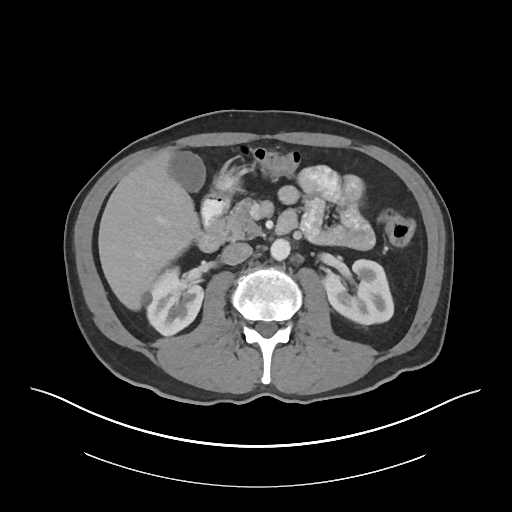Lesion: (139, 290, 156, 308)
